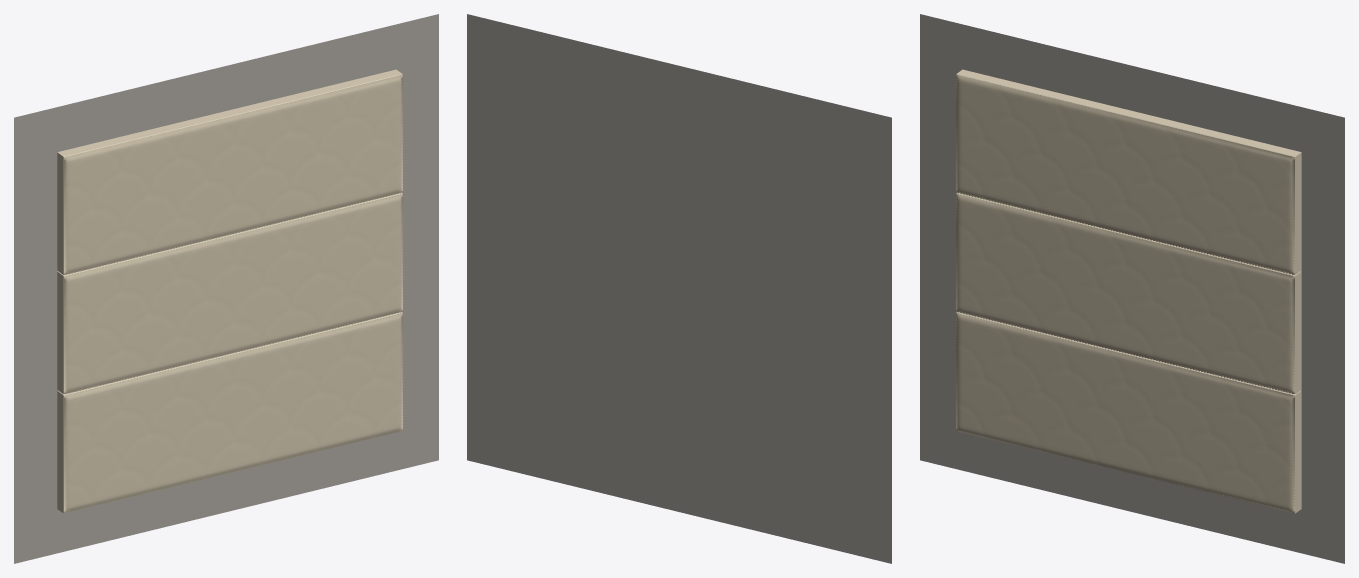
Rendered from terilgan.glb.
The picture shows the model from 3 angles, left to right: view 1: azimuth 30°, elevation 25°; view 2: azimuth 150°, elevation 25°; view 3: azimuth 330°, elevation 25°; orthographic projection.
Parts seen in each view (by area): view 1: Plane, t2_0, t0_0, t1_0; view 2: Plane; view 3: Plane, t2_0, t0_0, t1_0.
Boxes of the visible parts, x1,y1,x2,y2 form: Plane: (14, 14, 438, 563); t2_0: (57, 69, 403, 274); t0_0: (57, 312, 403, 513); t1_0: (57, 192, 403, 393); Plane: (467, 14, 891, 563); Plane: (920, 14, 1344, 563); t2_0: (955, 69, 1301, 274); t0_0: (955, 312, 1301, 513); t1_0: (955, 192, 1301, 393).
Bounding box in the file's own units: 1.5 × 1.51 × 0.047.
